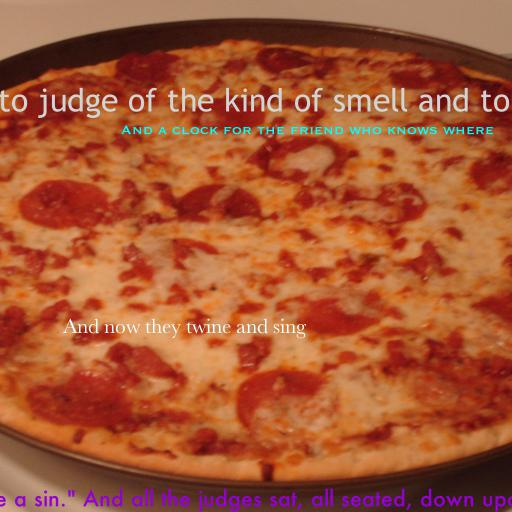Baskerville: (62, 318, 306, 339)
Copperplate: (120, 125, 494, 135)
Futura: (0, 488, 512, 512)
Trebuchet MS: (0, 87, 512, 119)
